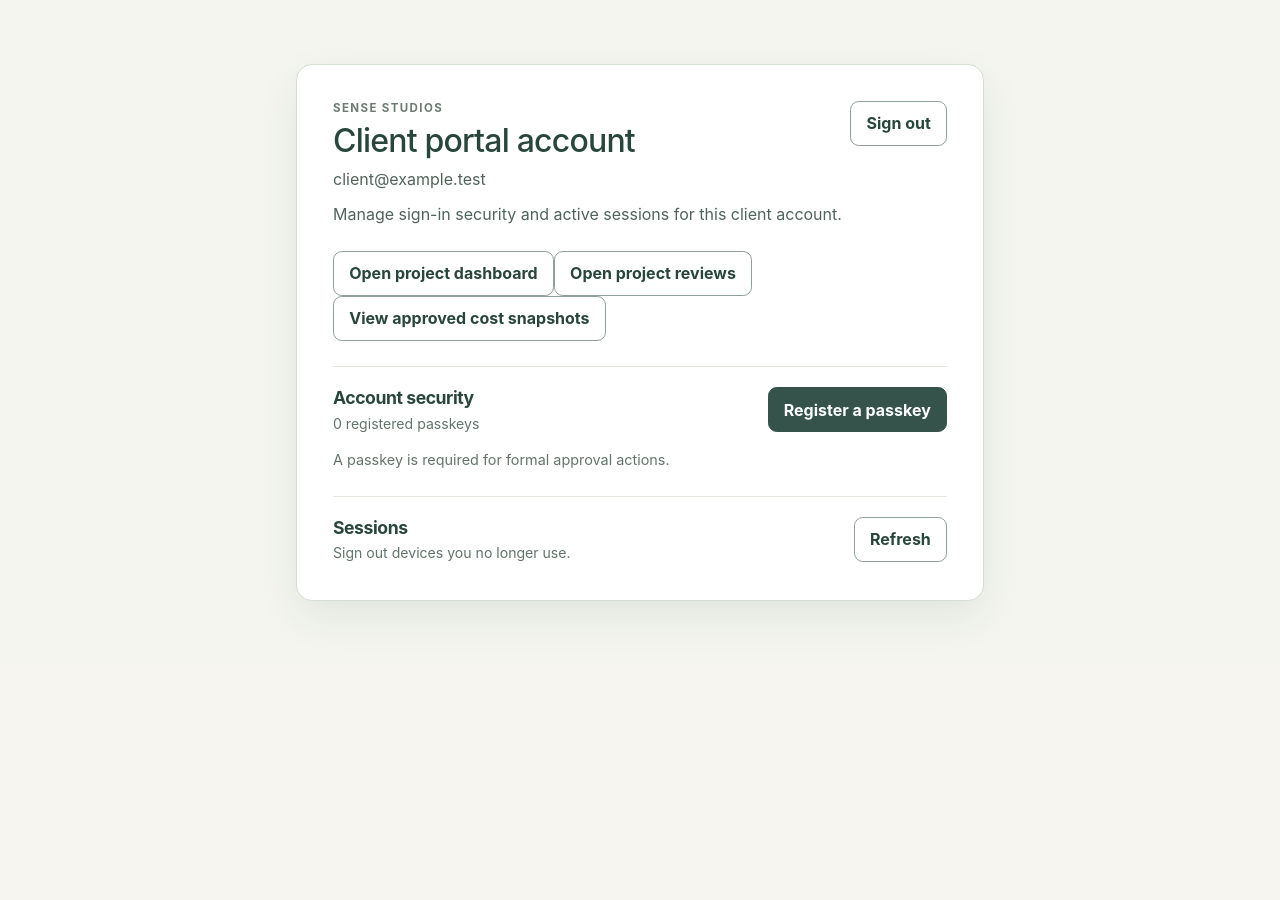
Test: client portal identity and security › shows a retryable error when the approved-cost service is unavailable
Click the button "View approved cost snapshots". click: (469, 318)
box: [333,296,606,341]
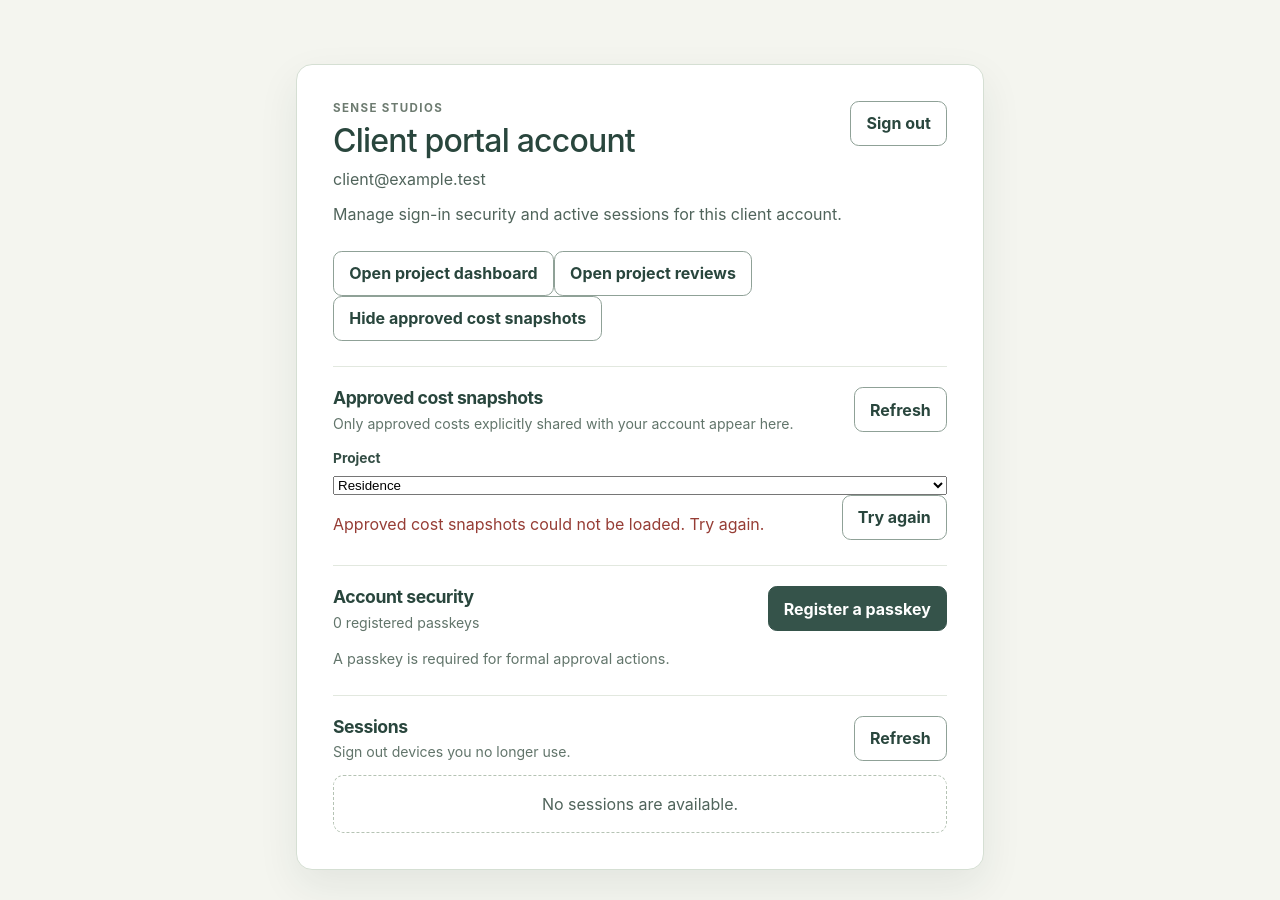
Now the message "Approved cost snapshots could not be loaded. Try again." is shown, box [333,512,764,536]
Now the button "Try again" is enabled, box [842,495,947,540]
